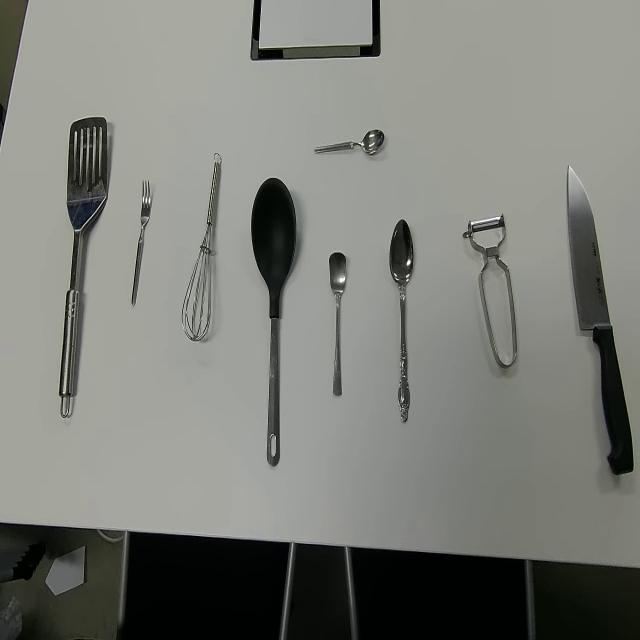Desert-Spoon: (389, 217, 414, 425)
Dinner-Fork: (130, 179, 151, 308)
Kitchen-Knife: (566, 163, 635, 477)
Peeler: (462, 212, 518, 370)
Serving-Spoon: (58, 114, 109, 418), (250, 176, 297, 468)
Tea-Spoon: (328, 250, 348, 396), (313, 126, 385, 156)
Whisk: (180, 151, 222, 343)
